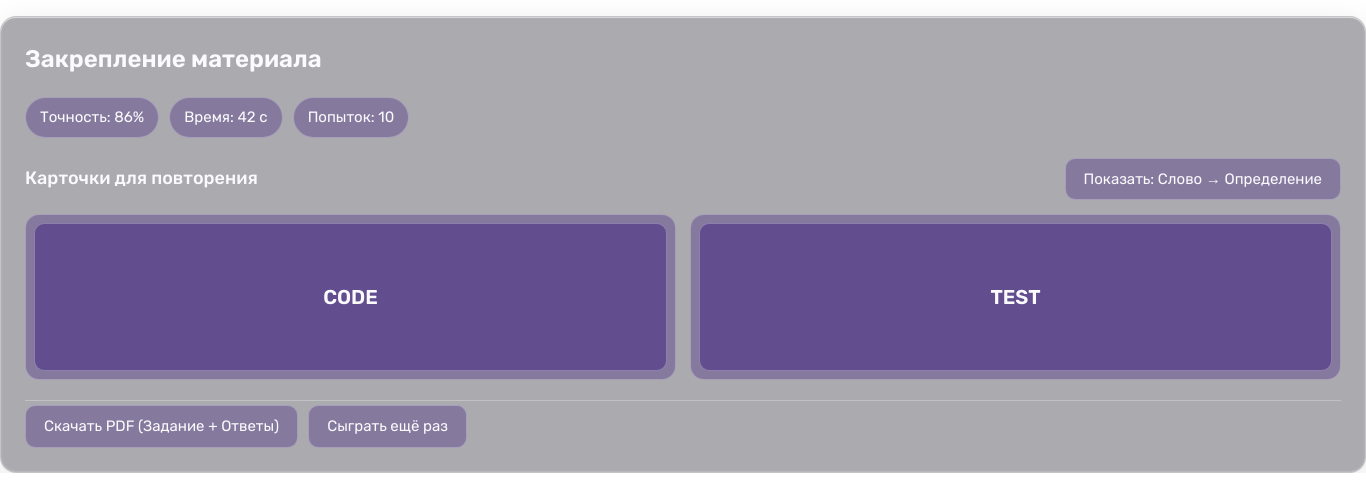
PostGameReview › mode toggle changes the initial face of every card
The width and height of the screenshot is (1366, 490).
Check: the text "CODE" is shown, box [34,223,667,371]
Check: the text "Код доступа" is not shown
What coordinates should you click on to do the following:
click the button "Показать: Слово → Определение"
I would click on:
 (1203, 179)
Its box is [1064,158,1341,200].
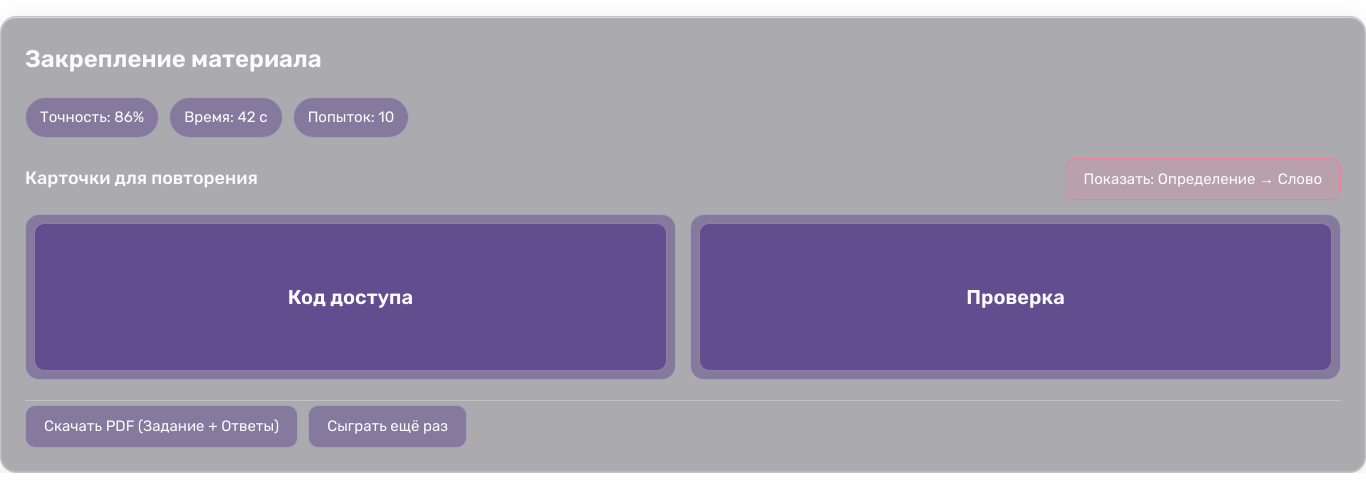
Check: the text "Код доступа" is shown, box [34,223,667,371]
Check: the button "CODE" is gone
